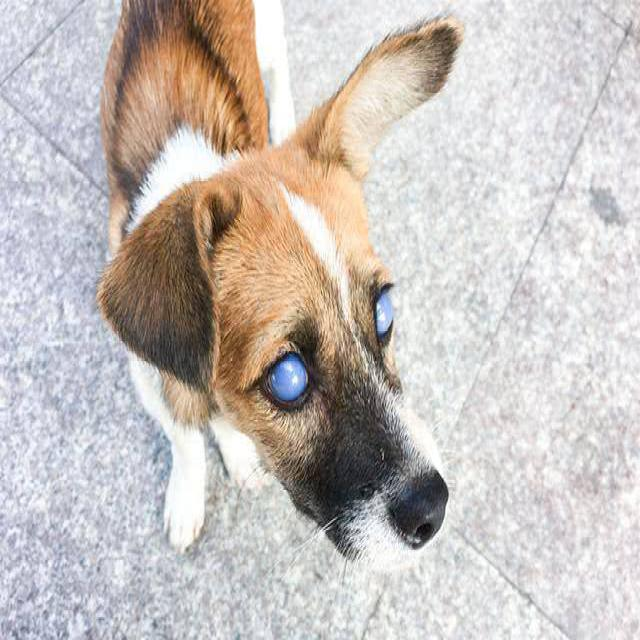eye: (258, 346, 317, 412), (370, 279, 396, 343)
